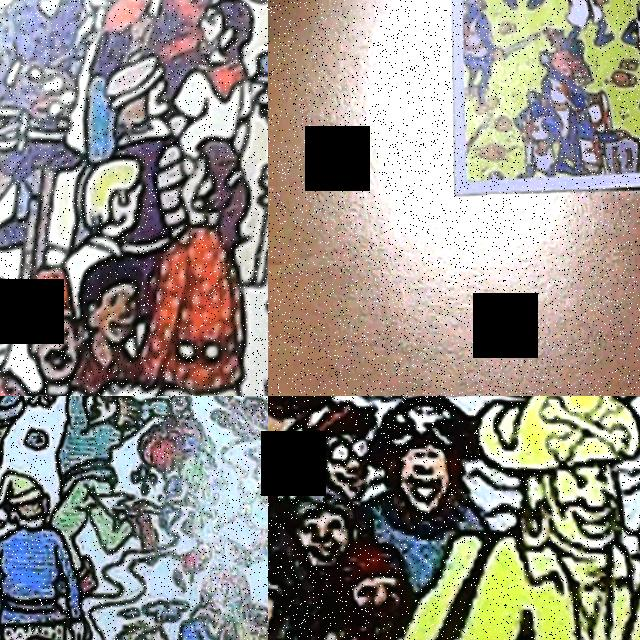waldo: (289, 396, 387, 515), (539, 29, 570, 66)
